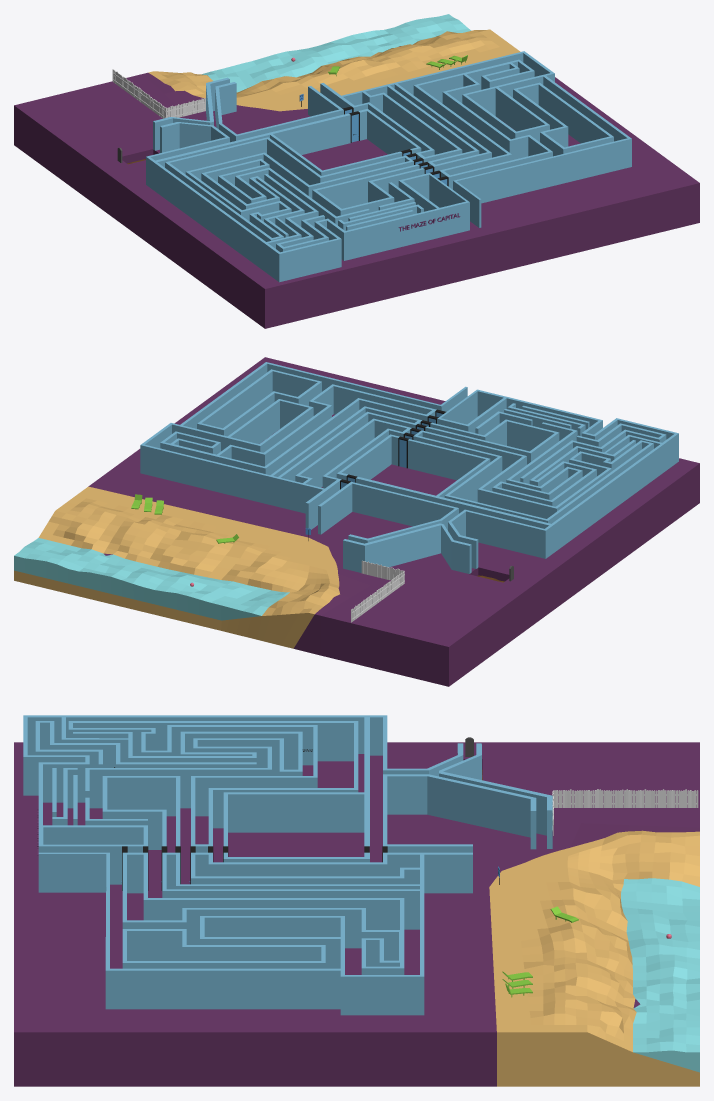
File: maze.fbx
The picture shows the model from 3 angles, top to bottom: view 1: azimuth 30°, elevation 25°; view 2: azimuth 150°, elevation 25°; view 3: azimuth 270°, elevation 25°; orthographic projection. The views are drawn at different scales.
Visible parts, largest first — view 1: maze walls, ground, ground.001; view 2: maze walls, ground, ground.001; view 3: maze walls, ground, ground.001.
Part boxes in pixels (x1,y1,x2,y2): maze walls: (146, 51, 631, 282); ground: (14, 74, 699, 328); ground.001: (142, 14, 520, 130); maze walls: (140, 362, 678, 573); ground: (88, 357, 699, 686); ground.001: (14, 486, 399, 655); maze walls: (23, 715, 552, 1015); ground: (14, 742, 699, 1086); ground.001: (472, 823, 699, 1086).
Size of the model in its own units: 7392 by 1104 by 7392.
